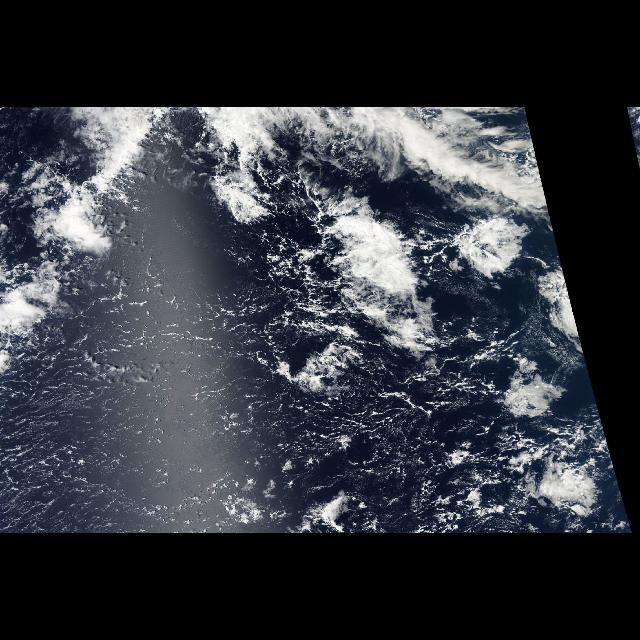Fish: (9, 113, 424, 334)
Flower: (446, 198, 600, 532)
Gravel: (29, 254, 513, 532)
Sugar: (2, 303, 268, 533)
